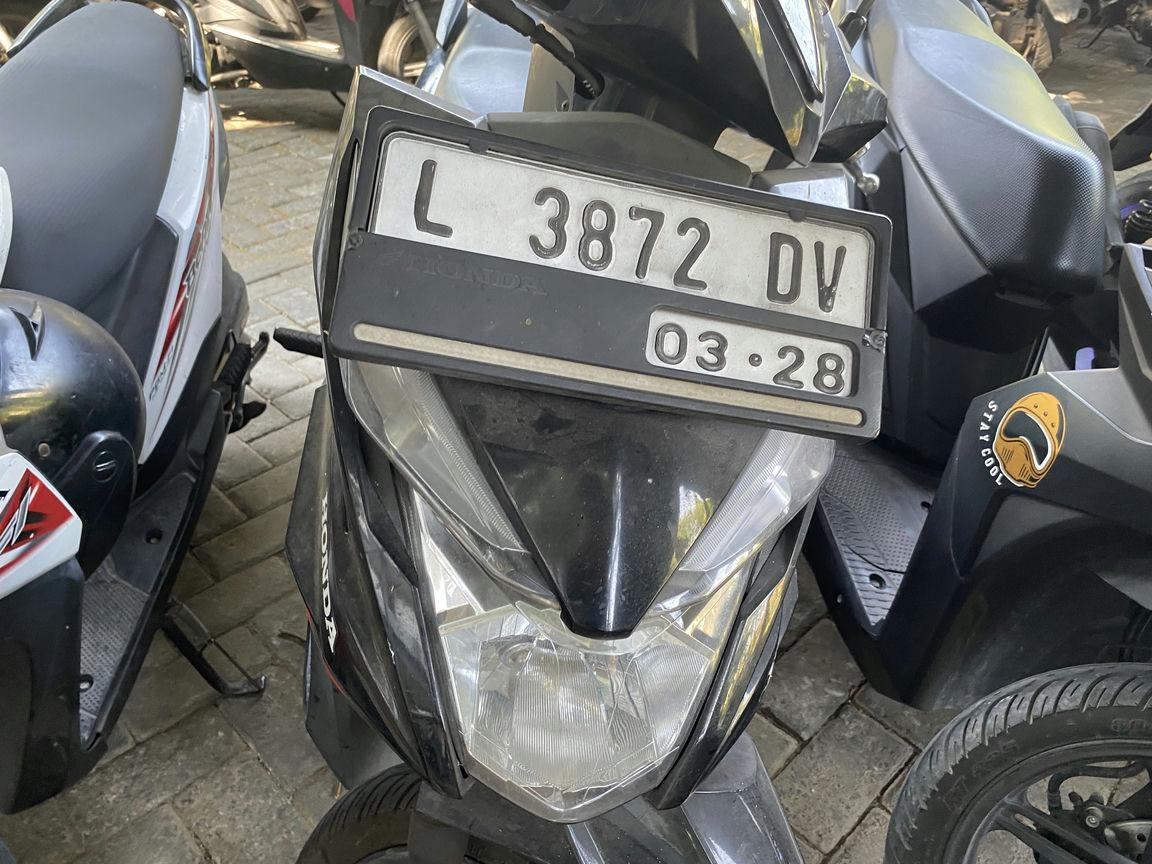plat: (328, 108, 889, 437)
